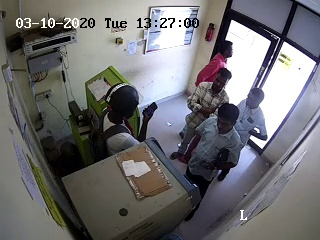helmet: (105, 79, 145, 126)
